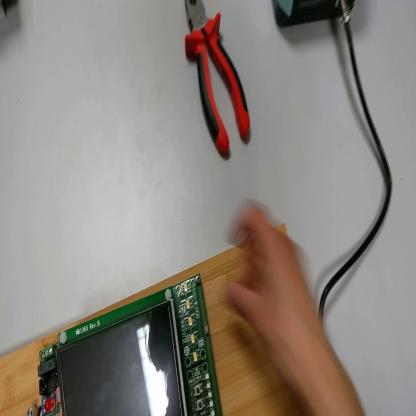hand: (224, 207, 323, 382)
low voltage board: (38, 272, 224, 416)
pliers: (184, 2, 253, 161)
welder station: (273, 2, 356, 31)
working area: (1, 223, 302, 415)
